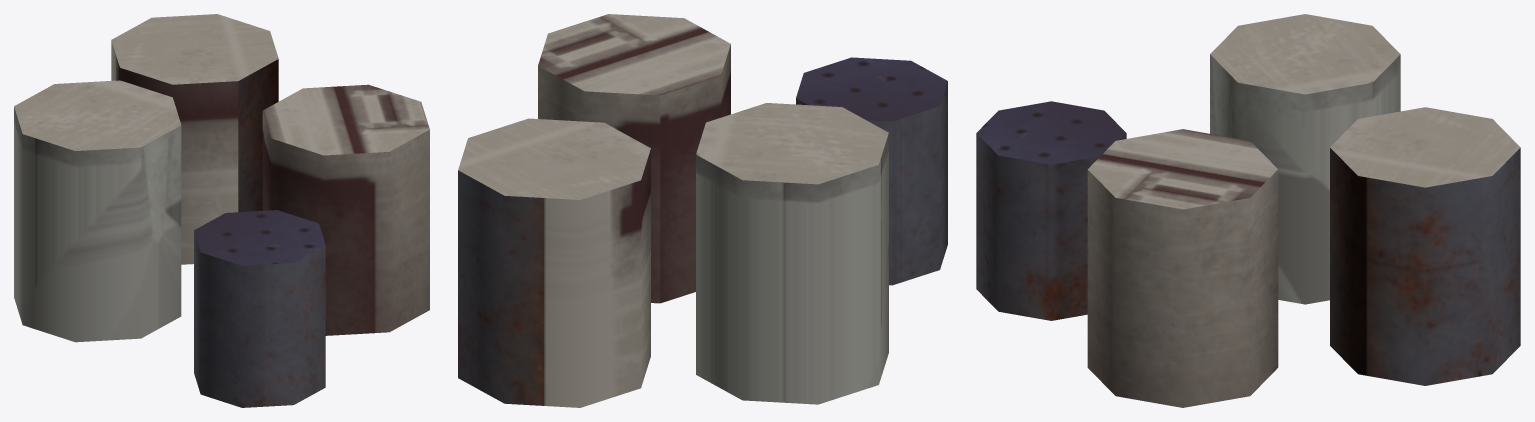
The model's file is Cans.fbx.
3 renders of one model, left to right at view 1: azimuth 30°, elevation 25°; view 2: azimuth 150°, elevation 25°; view 3: azimuth 270°, elevation 25°, orthographic. The views are drawn at different scales.
Parts seen in each view (by area): view 1: Cans; view 2: Cans; view 3: Cans.
Boxes of the visible parts, x1=… form: Cans: x1=14, y1=14, x2=429, y2=407; Cans: x1=458, y1=14, x2=947, y2=407; Cans: x1=976, y1=14, x2=1520, y2=407.
Size of the model in its own units: 44.18 by 23.53 by 55.24.
